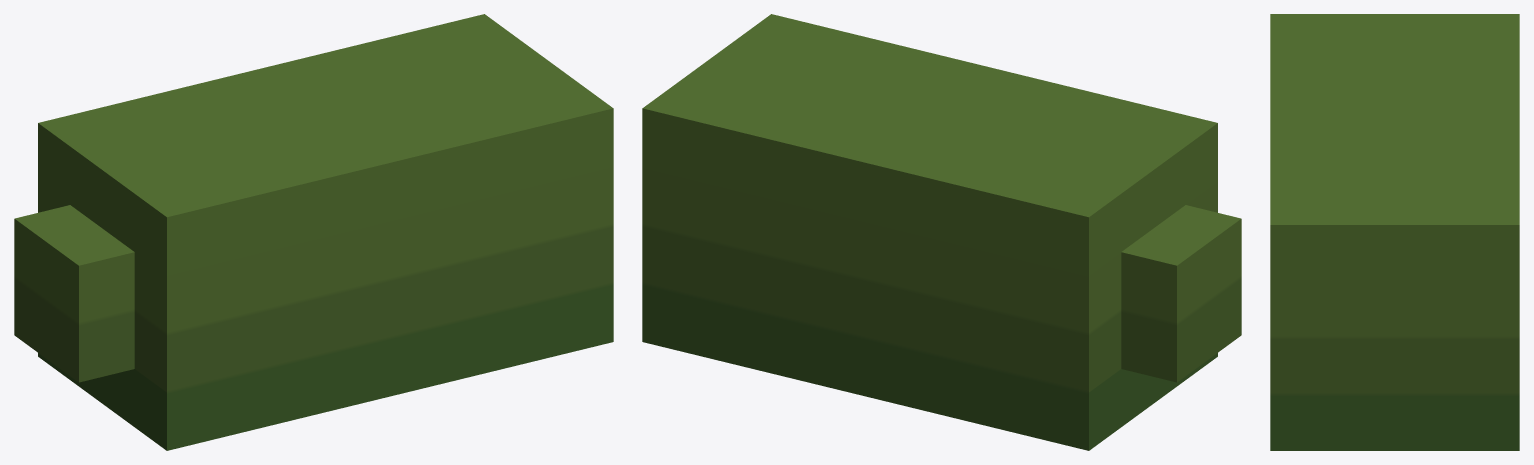
File: Elbow050.fbx
The picture shows the model from 3 angles, left to right: view 1: azimuth 30°, elevation 25°; view 2: azimuth 150°, elevation 25°; view 3: azimuth 270°, elevation 25°; orthographic projection. The views are drawn at different scales.
Visible parts, largest first — view 1: Elbow050; view 2: Elbow050; view 3: Elbow050.
Part boxes in pixels (box(x1,y1,x2,y2)): Elbow050: box(14, 14, 613, 450); Elbow050: box(642, 14, 1241, 450); Elbow050: box(1270, 14, 1519, 450).
Size of the model in its own units: 9 by 4 by 4.
